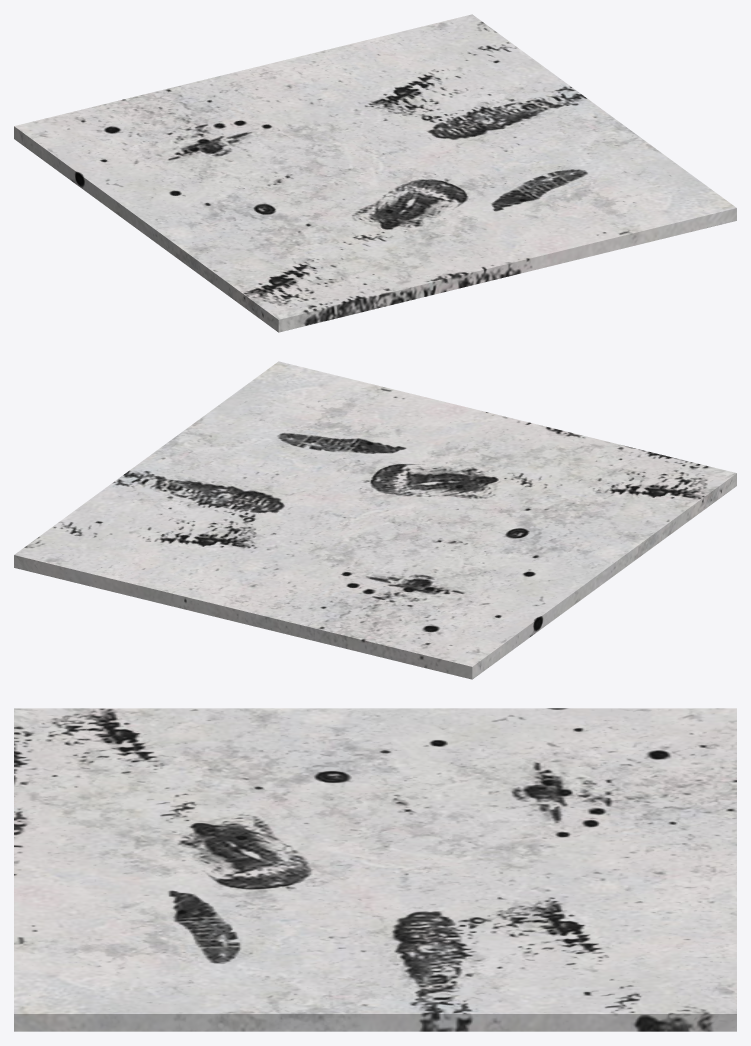
Rendered from Floorex3.fbx.
3 views of the same model, one above another, from view 1: azimuth 30°, elevation 25°; view 2: azimuth 150°, elevation 25°; view 3: azimuth 270°, elevation 25° (orthographic). The views are drawn at different scales.
Parts seen in each view (by area): view 1: pPlane1; view 2: pPlane1; view 3: pPlane1.
Boxes of the visible parts, bbox=[...] form: pPlane1: bbox=[14, 14, 736, 332]; pPlane1: bbox=[14, 361, 736, 679]; pPlane1: bbox=[14, 708, 736, 1031].
Size of the model in its own units: 24 by 0.6396 by 24.
